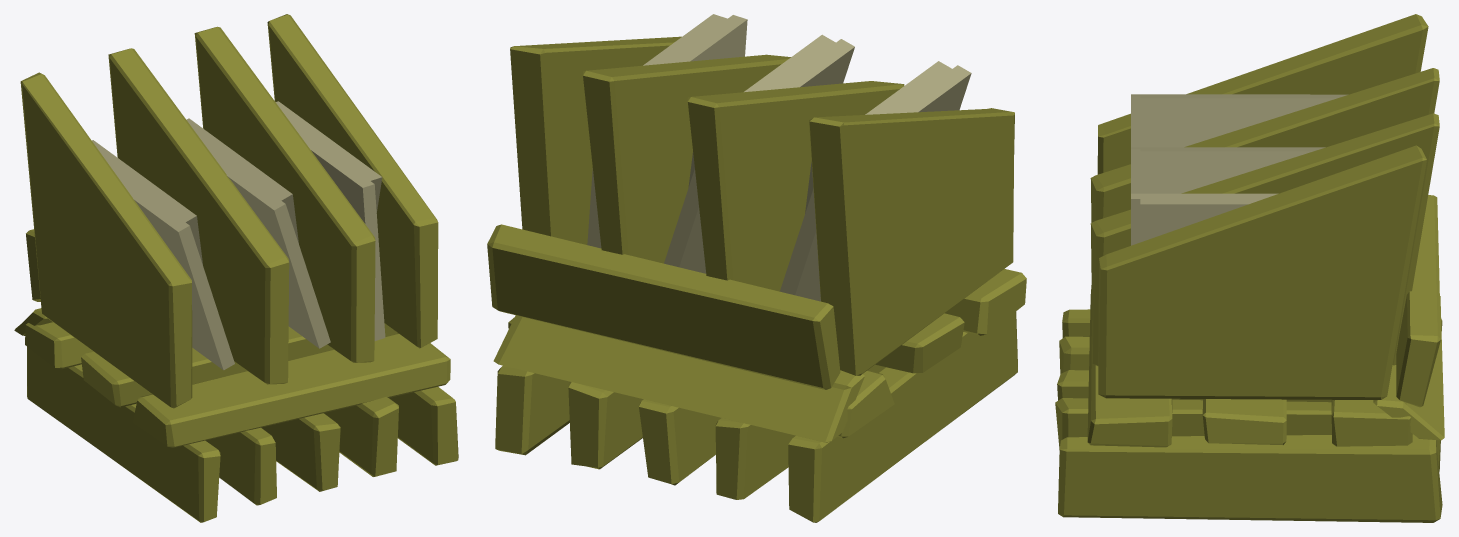
The model's file is MailCrate.fbx.
3 renders of one model, left to right at view 1: azimuth 30°, elevation 25°; view 2: azimuth 150°, elevation 25°; view 3: azimuth 270°, elevation 25°, orthographic. The views are drawn at different scales.
Parts seen in each view (by area): view 1: Resource Crate 2 Mail; view 2: Resource Crate 2 Mail; view 3: Resource Crate 2 Mail.
Boxes of the visible parts, bbox=[...] form: Resource Crate 2 Mail: bbox=[14, 14, 458, 522]; Resource Crate 2 Mail: bbox=[487, 14, 1026, 522]; Resource Crate 2 Mail: bbox=[1055, 14, 1444, 522].
Bounding box in the file's own units: 196 × 212 × 206.
